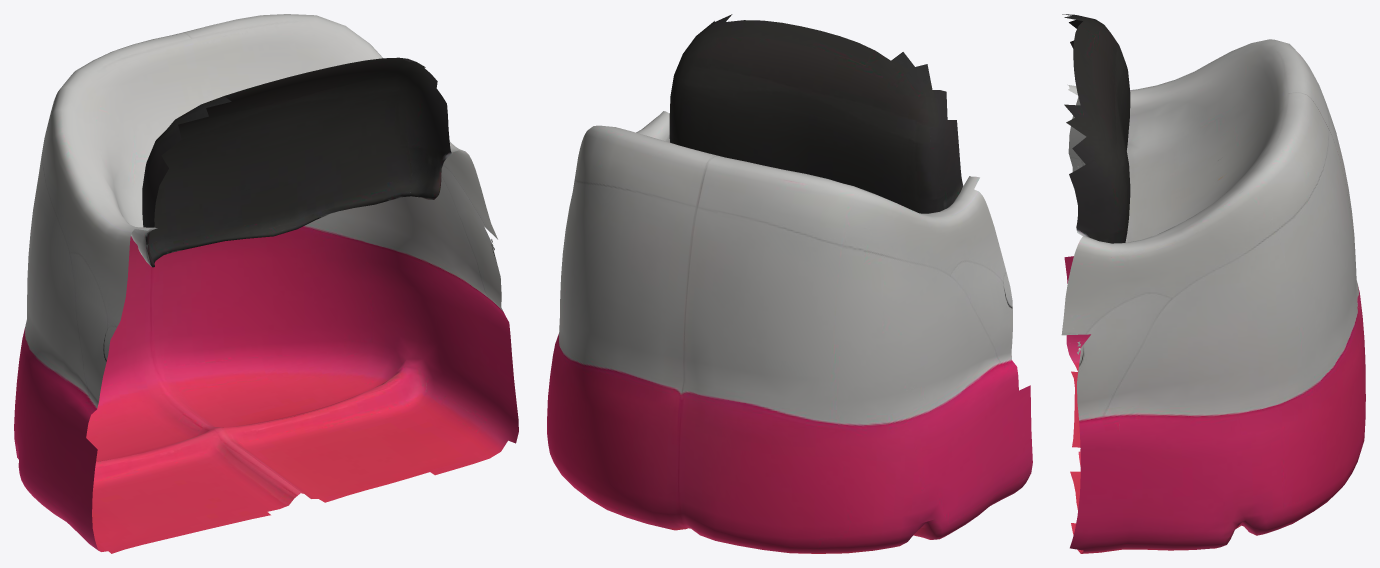
Rendered from chr_player_capsule01_bunny01_foot_l_top3d_v002.glb.
The picture shows the model from 3 angles, left to right: view 1: azimuth 30°, elevation 25°; view 2: azimuth 150°, elevation 25°; view 3: azimuth 270°, elevation 25°; orthographic projection. The views are drawn at different scales.
Visible parts, largest first — view 1: BunnyFootLV002; view 2: BunnyFootLV002; view 3: BunnyFootLV002.
Part boxes in pixels (x1=…): BunnyFootLV002: x1=14, y1=14, x2=518, y2=553; BunnyFootLV002: x1=547, y1=14, x2=1032, y2=553; BunnyFootLV002: x1=1061, y1=14, x2=1365, y2=553.
Bounding box in the file's own units: 0.4541 × 0.4364 × 0.2906.
Materials: 1 (1 with a texture image).
